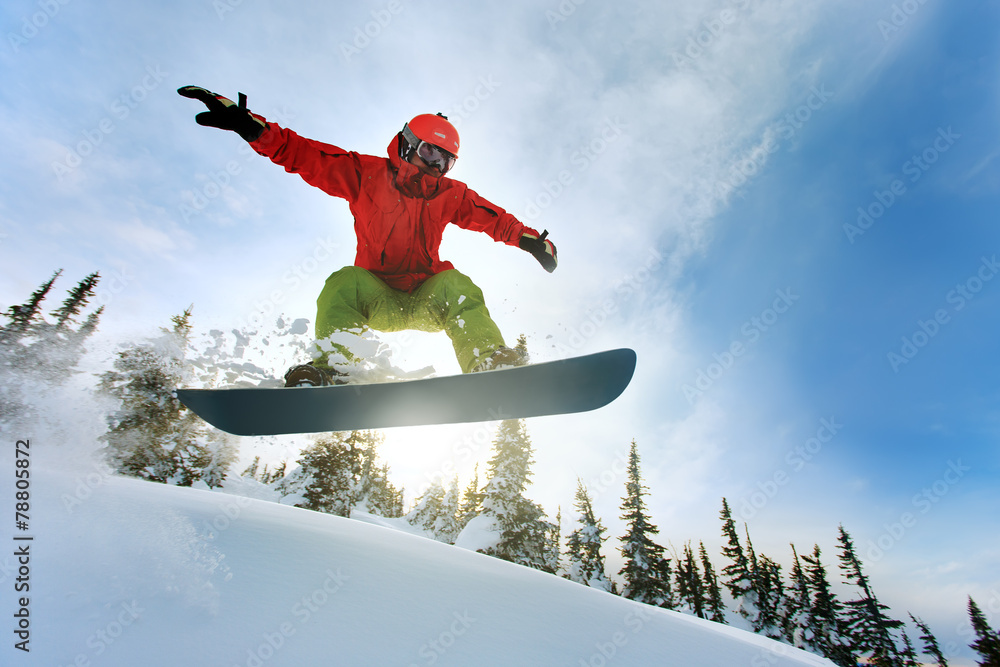snowboarder: (172, 77, 645, 439)
